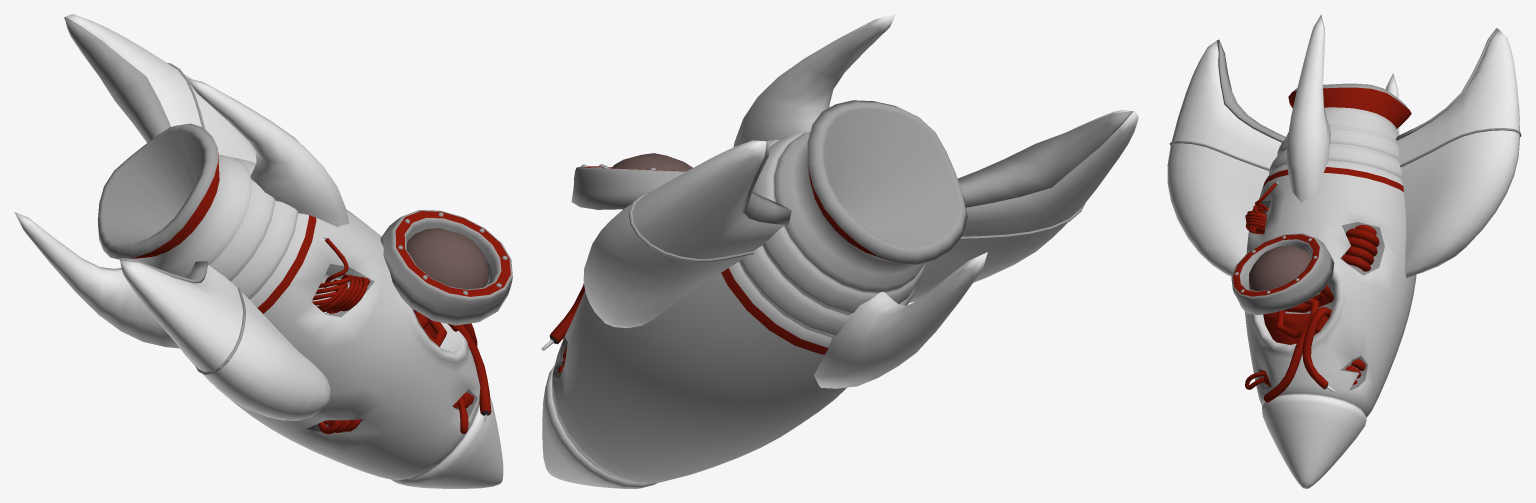
File: rocket_3d.fbx
The picture shows the model from 3 angles, left to right: view 1: azimuth 30°, elevation 25°; view 2: azimuth 150°, elevation 25°; view 3: azimuth 270°, elevation 25°; orthographic projection. The views are drawn at different scales.
Parts seen in each view (by area): view 1: wing_3.001, wing_3.002, NurbsPath.023; view 2: wing_3.001, wing_3.002, NurbsPath.023; view 3: wing_3.001, wing_3.002, NurbsPath.023, Cylinder, Torus, Torus.001.
Part boxes in pixels (left/top/right/bottom): wing_3.001: left=14, top=14, right=503, bottom=488; wing_3.002: left=380, top=210, right=512, bottom=325; NurbsPath.023: left=311, top=237, right=491, bottom=434; wing_3.001: left=542, top=14, right=1138, bottom=488; wing_3.002: left=571, top=153, right=692, bottom=209; NurbsPath.023: left=541, top=283, right=584, bottom=373; wing_3.001: left=1167, top=14, right=1521, bottom=488; wing_3.002: left=1231, top=233, right=1334, bottom=314; NurbsPath.023: left=1245, top=182, right=1379, bottom=402; Cylinder: left=1263, top=310, right=1331, bottom=344; Torus: left=1275, top=298, right=1319, bottom=338; Torus.001: left=1285, top=284, right=1334, bottom=312.
Size of the model in its own units: 294 by 302 by 267.
